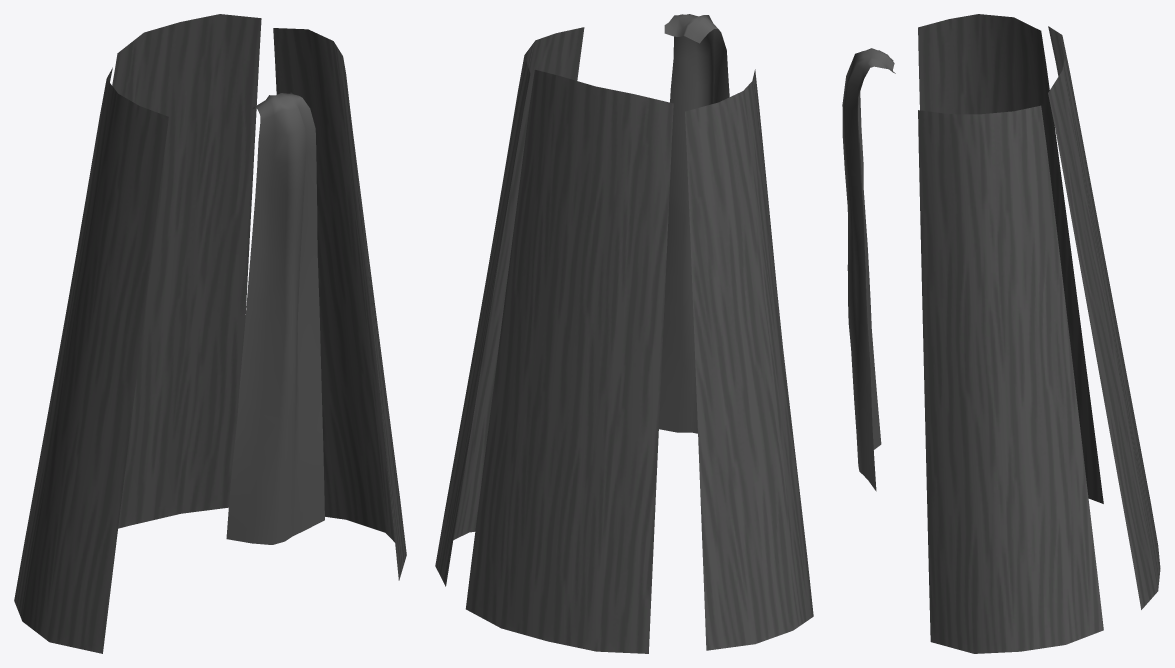
File: clo_harad08_torso.fbx
3 views of the same model, side by side, from view 1: azimuth 30°, elevation 25°; view 2: azimuth 150°, elevation 25°; view 3: azimuth 270°, elevation 25° (orthographic). The views are drawn at different scales.
Parts seen in each view (by area): view 1: clo_harad08_torso; view 2: clo_harad08_torso; view 3: clo_harad08_torso.
Boxes of the visible parts, x1,y1,x2,y2 form: clo_harad08_torso: (14,14,406,653); clo_harad08_torso: (435,14,813,653); clo_harad08_torso: (842,14,1160,653).
Bounding box in the file's own units: 0.5869 × 0.4656 × 0.8403.
1 material, 1 textured.
